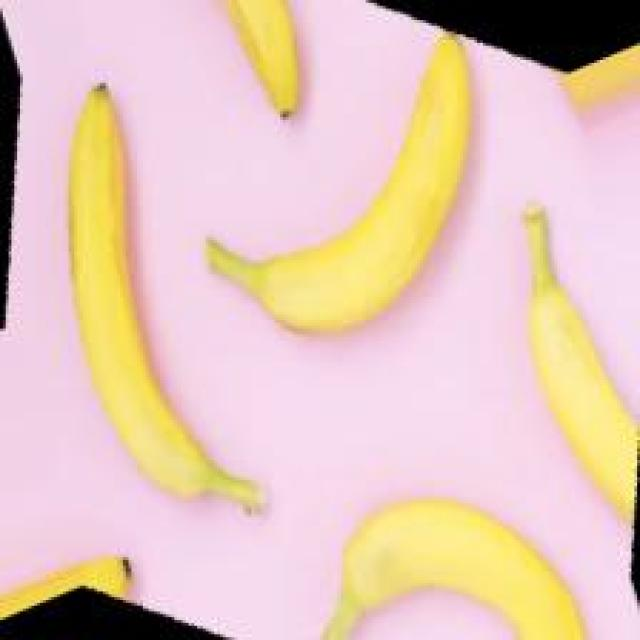bananas: (63, 50, 191, 518), (214, 212, 481, 345), (514, 205, 626, 513), (318, 532, 603, 622), (24, 543, 193, 613), (261, 0, 328, 138)
